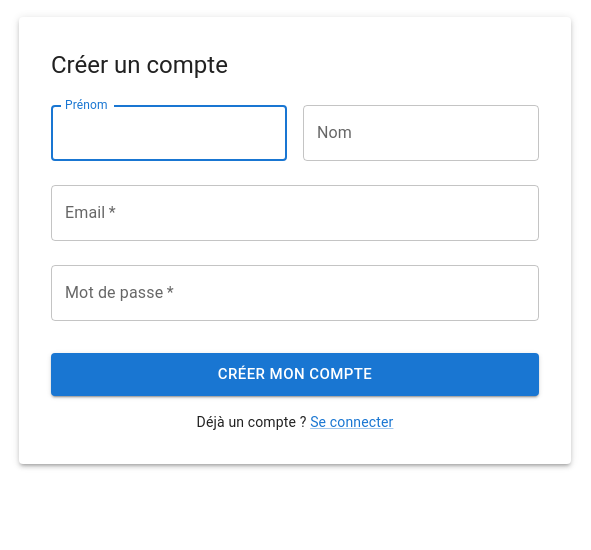
Test: RegisterPage › shows generic error when no response data
Click the button "Créer mon compte" at point(295, 375), box [51,353,539,396]
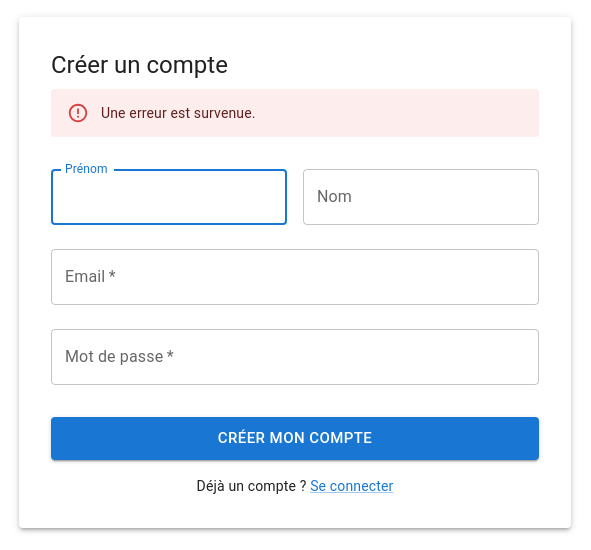
Expected: the text "Une erreur est survenue." is shown, [101,105,256,121]
